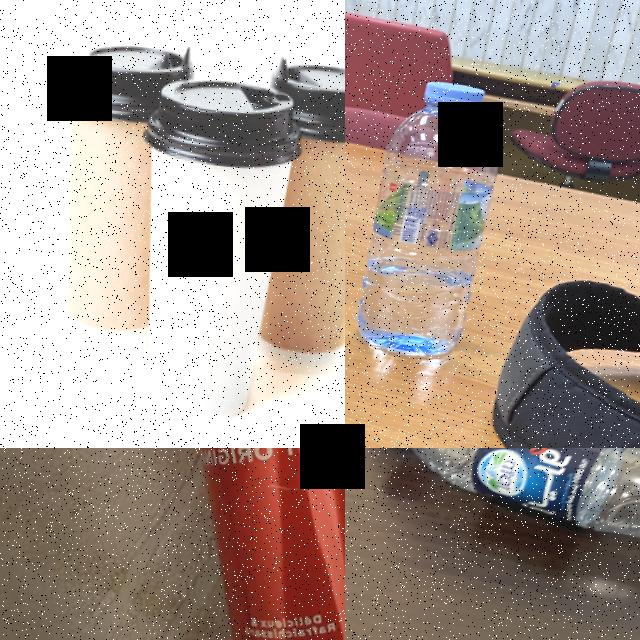bottle: (345, 448, 640, 603), (352, 75, 506, 362)
can: (127, 448, 345, 640)
cup: (113, 69, 310, 429), (36, 37, 198, 355), (235, 56, 345, 382)
